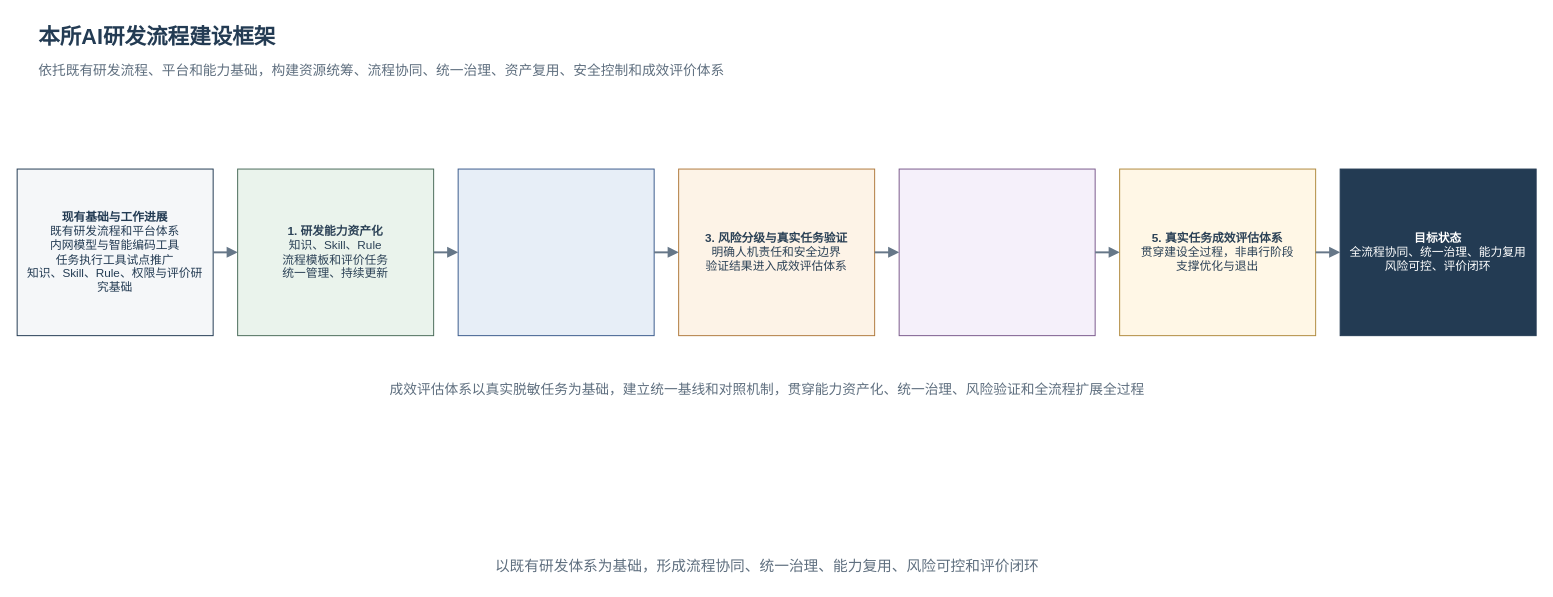
Image size: 1553x597. Some labels were removed from this diagram. The centre of each missing label's shape, as x and y in pixels:
"2. 资源统筹与统一接入治理 模型、算力、工具和平台统筹 身份、权限、日志和审计统一" belongs at (x=555, y=252).
"4. 全流程协同能力扩展 连接需求、设计、开发、测试 发布准备和运行反馈" belongs at (x=996, y=252).
